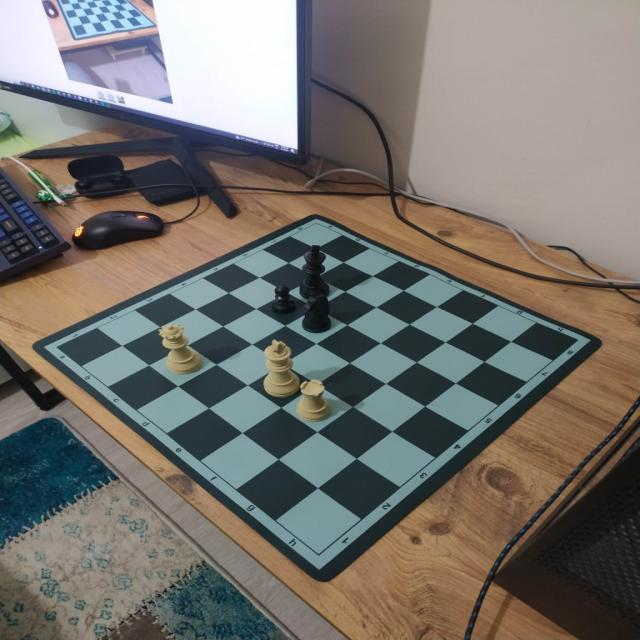chess-table-corners: (307, 543, 330, 560), (566, 337, 582, 348), (52, 343, 66, 353), (312, 221, 322, 229)
